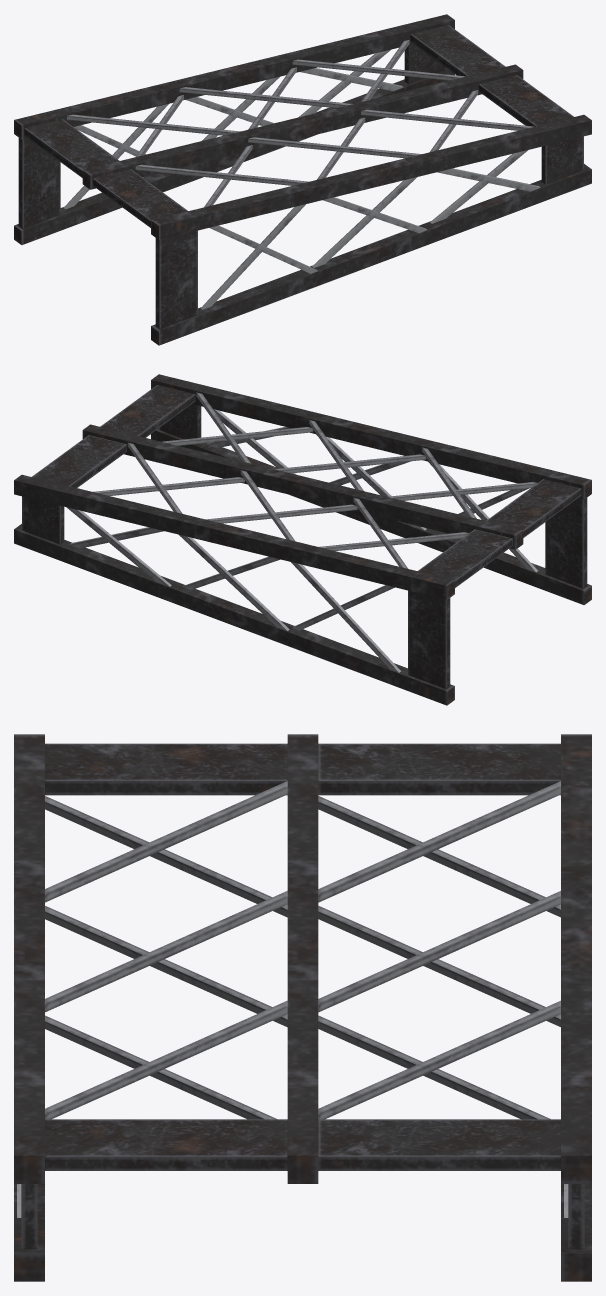
Rendered from beam_s_3.fbx.
3 views of the same model, one above another, from view 1: azimuth 30°, elevation 25°; view 2: azimuth 150°, elevation 25°; view 3: azimuth 270°, elevation 25° (orthographic). The views are drawn at different scales.
Parts seen in each view (by area): view 1: beam_s_3; view 2: beam_s_3; view 3: beam_s_3.
Boxes of the visible parts, box(x1,y1,x2,y2) form: beam_s_3: box(14, 14, 591, 345); beam_s_3: box(14, 374, 591, 705); beam_s_3: box(14, 734, 591, 1281).
Size of the model in its own units: 7.29 by 1.93 by 4.23.
